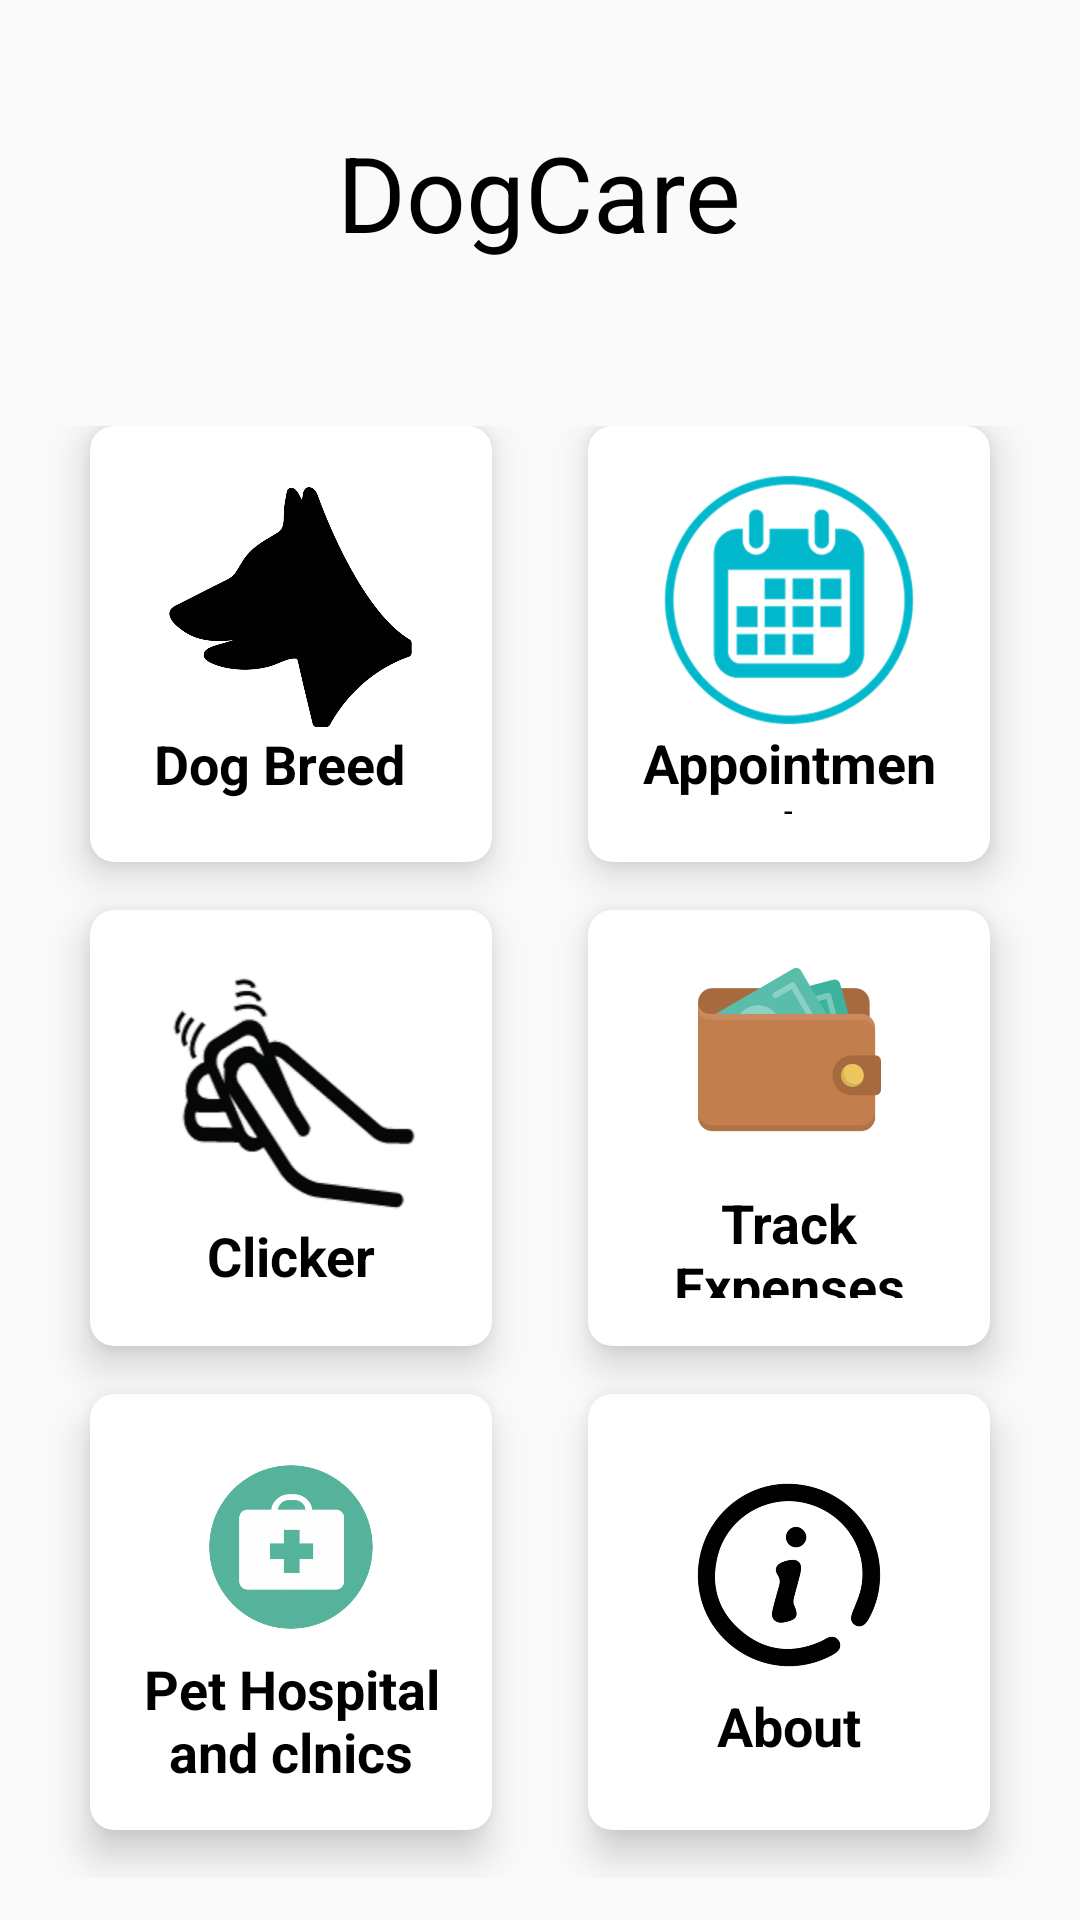

Icons on this 1080 × 1920 Android screen, each with the point to tap as (x=x, y=y):
budget: (x=789, y=1050)
